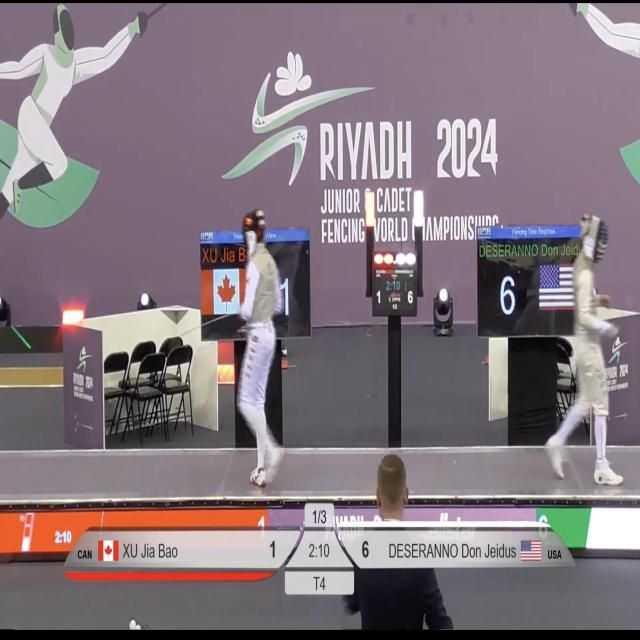fencer: (544, 195, 624, 487), (229, 193, 291, 494)
overlayLeft: (61, 525, 265, 567)
overlayRight: (381, 529, 574, 570)
scoreLeft: (267, 528, 300, 568)
scoreRight: (332, 527, 377, 567)
